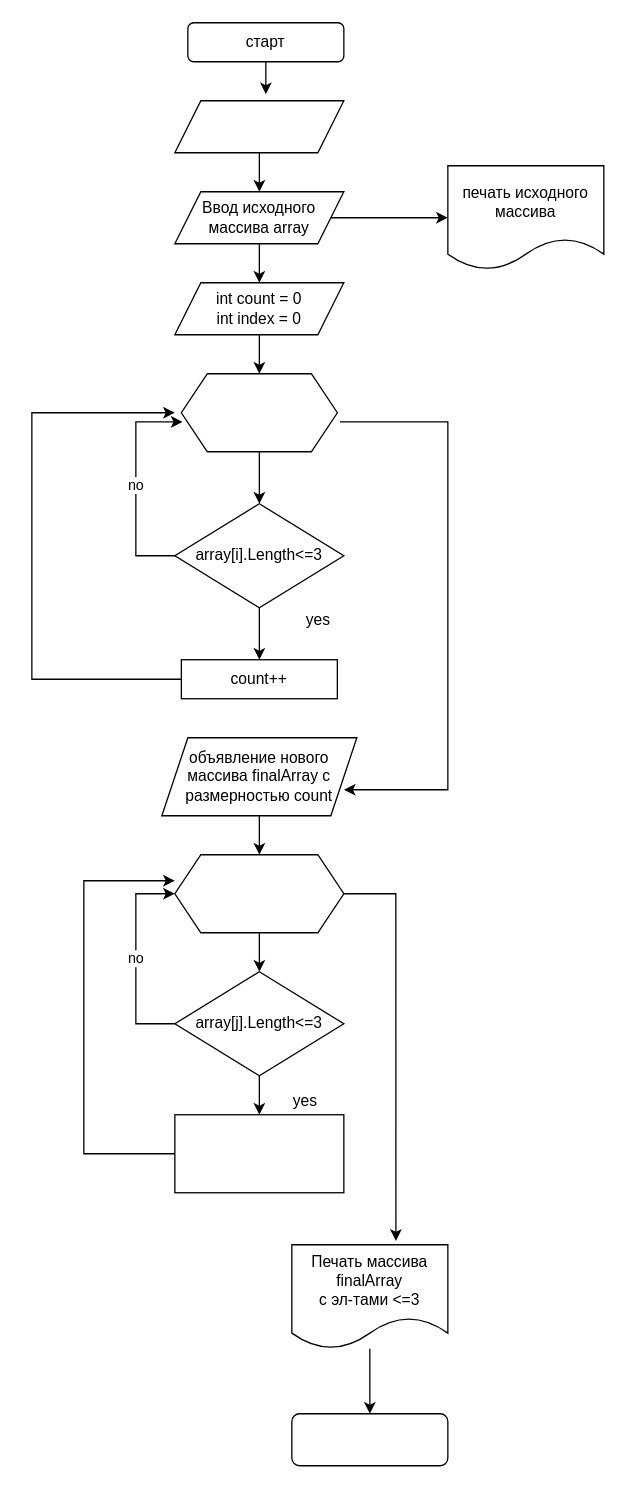
This 627x1489 diagram has some shape labels left out. Here are the shapes that lost their labels. From the top down, the centre of each, then its label:
point 259,126: ввод размерности массива
point 258,412: for int i=0; i<array.Lenghth; i++
point 259,893: for int j=0; j<array.Lenghth; j++
point 259,1153: finalArray[j] = array[j] index++
point 369,1439: конец
